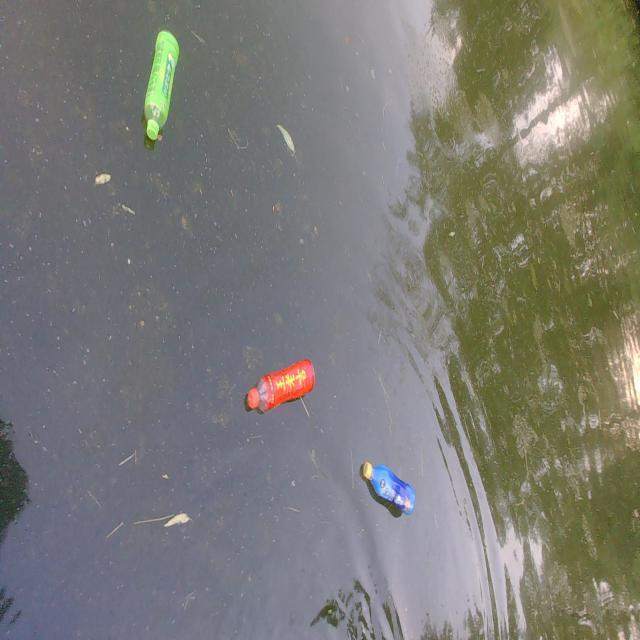Bottle: (143, 23, 179, 149), (242, 354, 317, 412), (358, 455, 416, 519)
